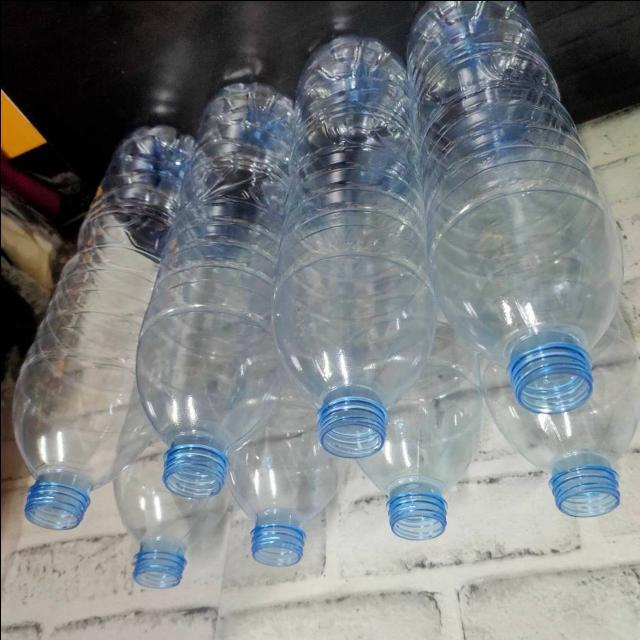PET Bottle: (397, 0, 629, 401), (114, 439, 634, 604), (274, 39, 452, 444), (11, 97, 168, 519), (137, 60, 285, 482)
